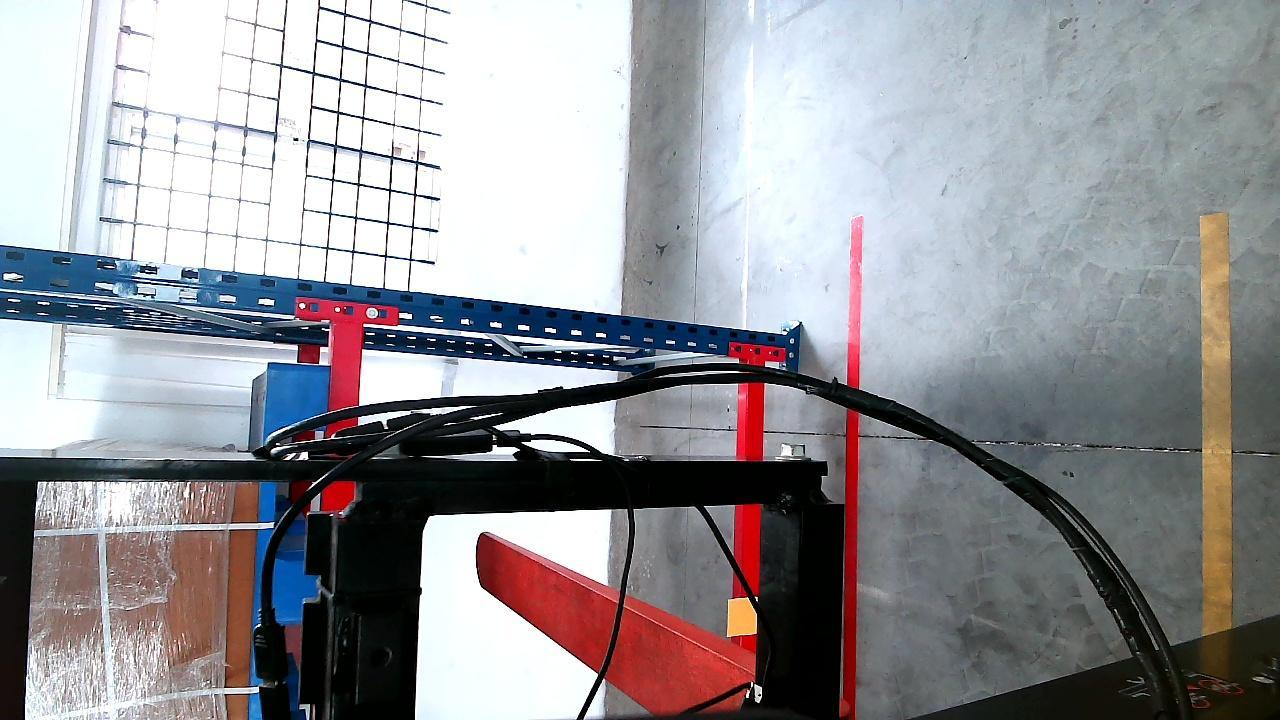red_line: (840, 215, 862, 719)
yellow_line: (1201, 204, 1235, 658)
